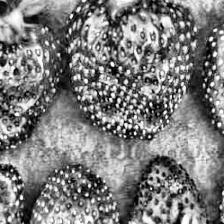Anthracnose Fruit Rot: (65, 0, 195, 140), (0, 27, 62, 152), (129, 154, 207, 224), (62, 163, 117, 224), (202, 24, 224, 137), (0, 173, 15, 223)
